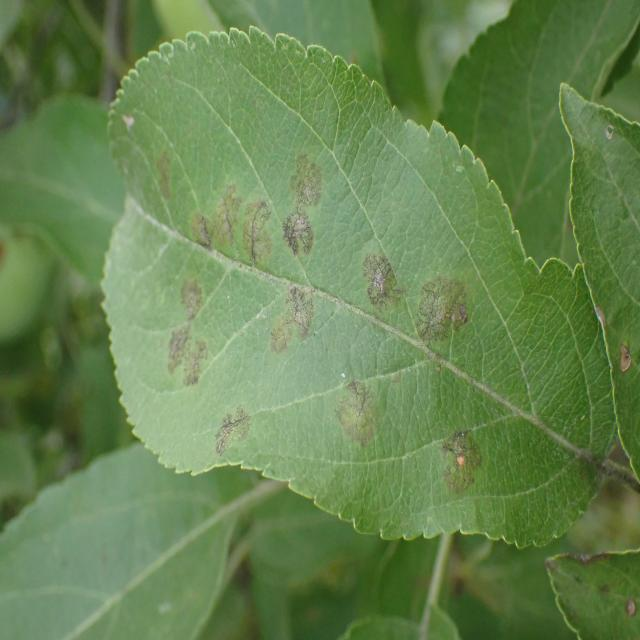scab: (424, 397, 511, 521), (141, 271, 214, 406), (405, 245, 481, 372), (187, 176, 277, 279), (328, 343, 388, 462), (350, 206, 406, 324), (264, 268, 314, 366), (284, 151, 326, 259), (130, 119, 176, 215), (205, 385, 259, 453)
